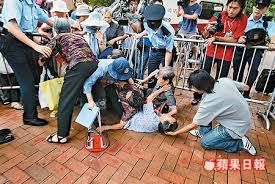10+: (1, 1, 275, 163)
down: (119, 80, 188, 144), (135, 64, 185, 125), (97, 76, 144, 135)
